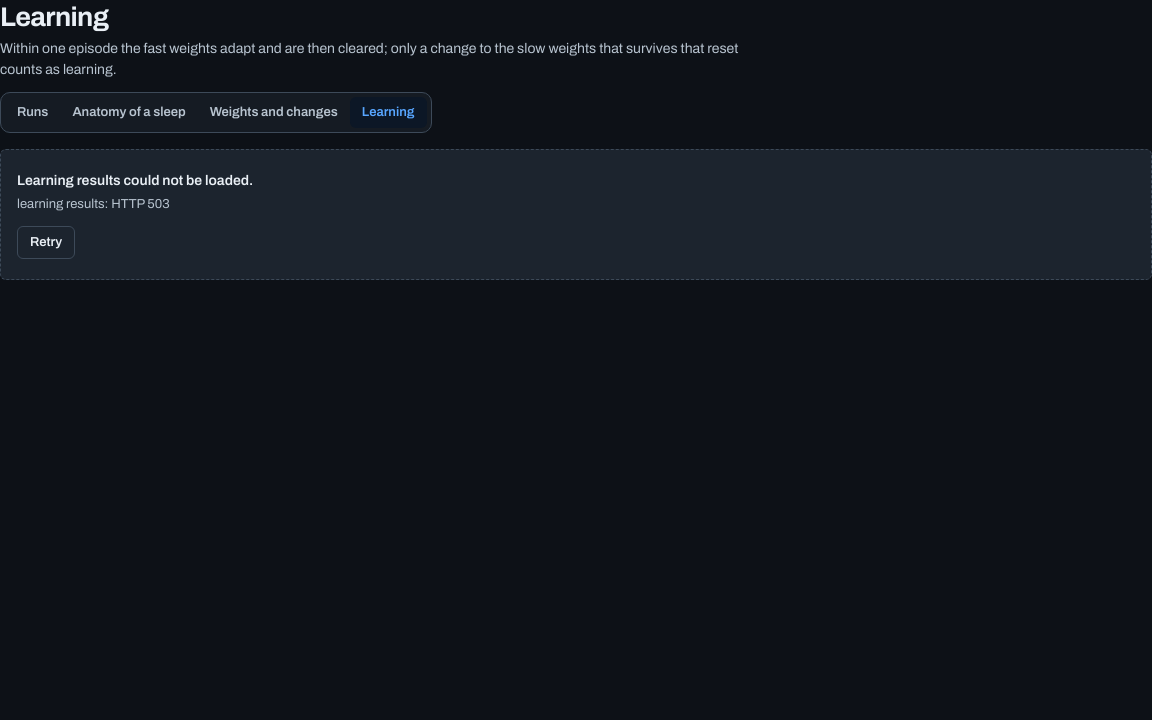
Test case: Learning view › reports a failed load with a retry, and renders without the Sleep export
Expected: the text "Learning results could not be loaded." is shown, [17,173,253,188]
Click the button "Retry" at (46, 242), box [17,226,75,259]
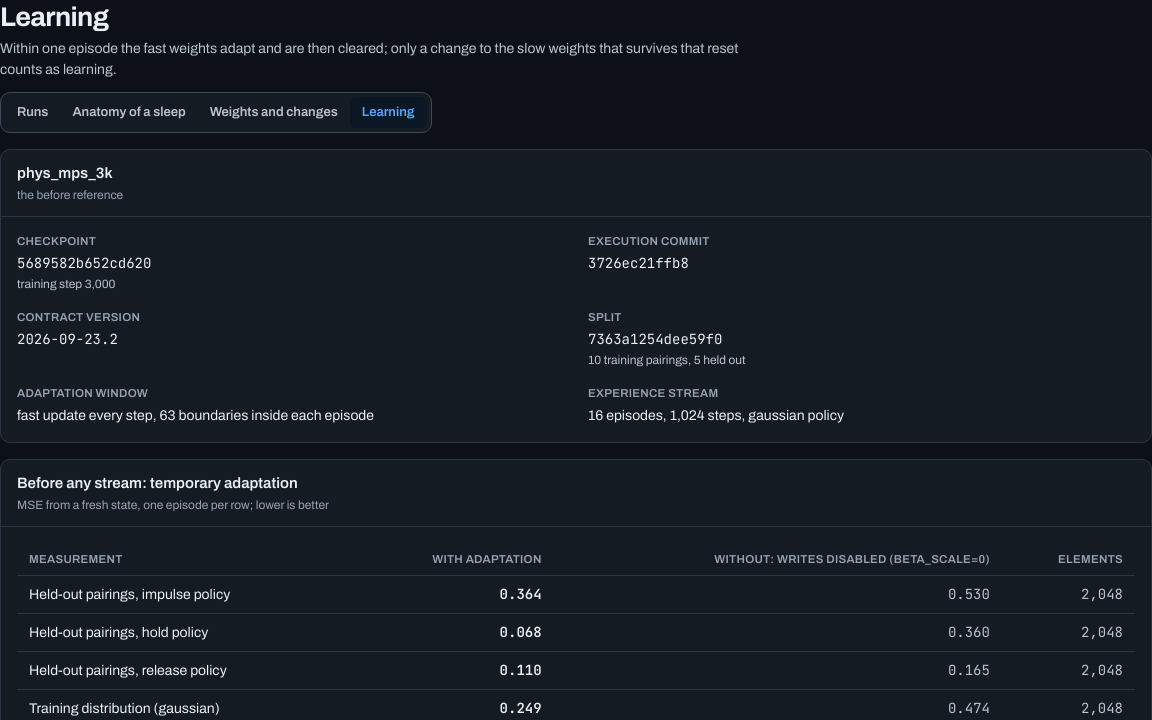
Expected: the text "Sleep runs could not be loaded." is not shown
Result: the heading "phys_mps_3k" is shown at [17,162,123,185]
Click the button "Runs" at (33, 112), box [5,97,60,128]
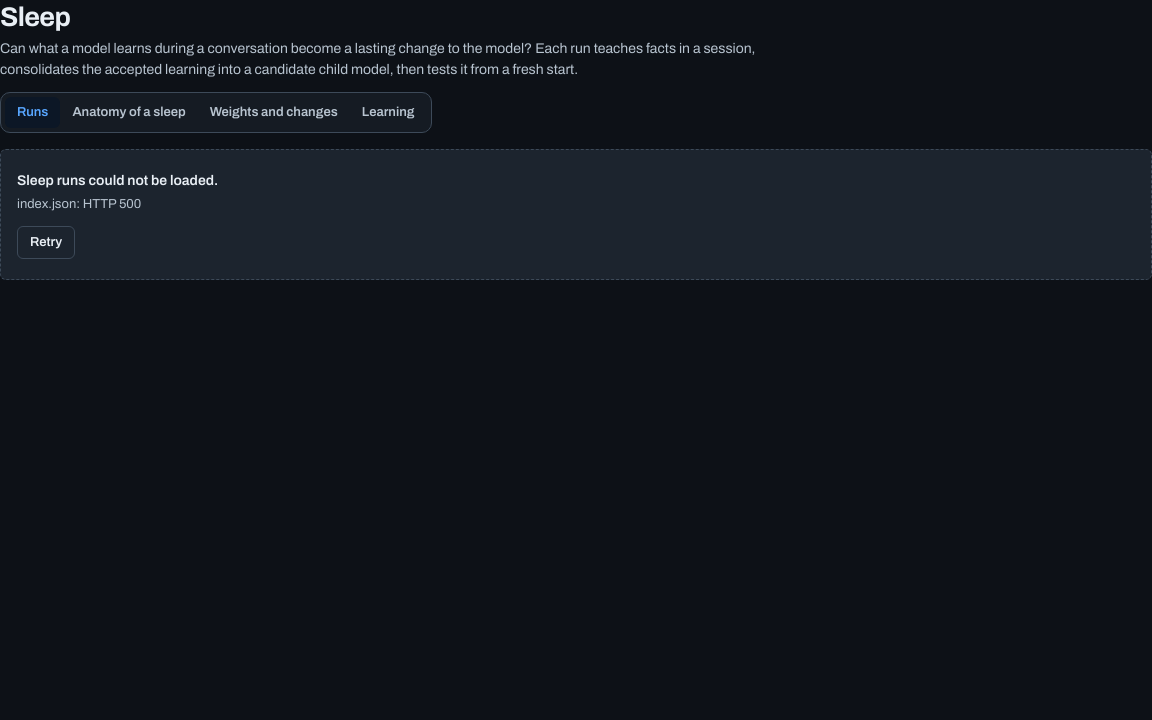
Result: the text "Sleep runs could not be loaded." is shown at [17,173,218,188]
